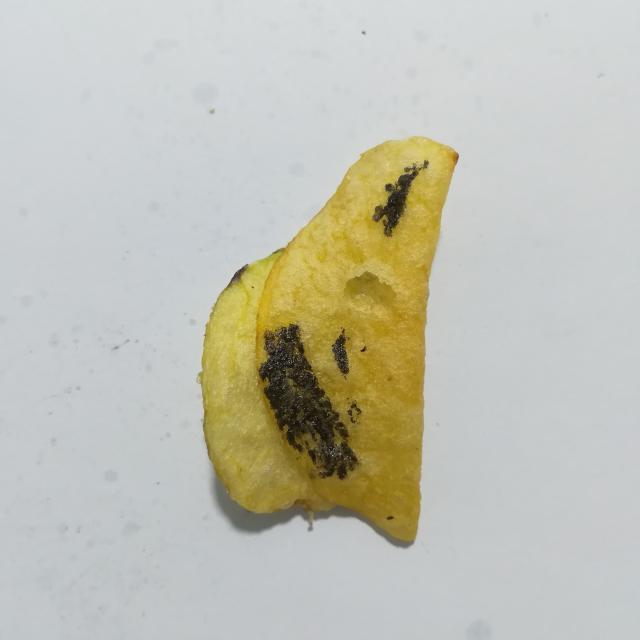chip: (200, 137, 458, 542)
damaged: (259, 324, 358, 479), (372, 161, 428, 236), (332, 329, 349, 375), (228, 265, 248, 286), (352, 403, 361, 414), (350, 417, 356, 424), (360, 346, 366, 352), (347, 409, 352, 416), (387, 516, 393, 520)
